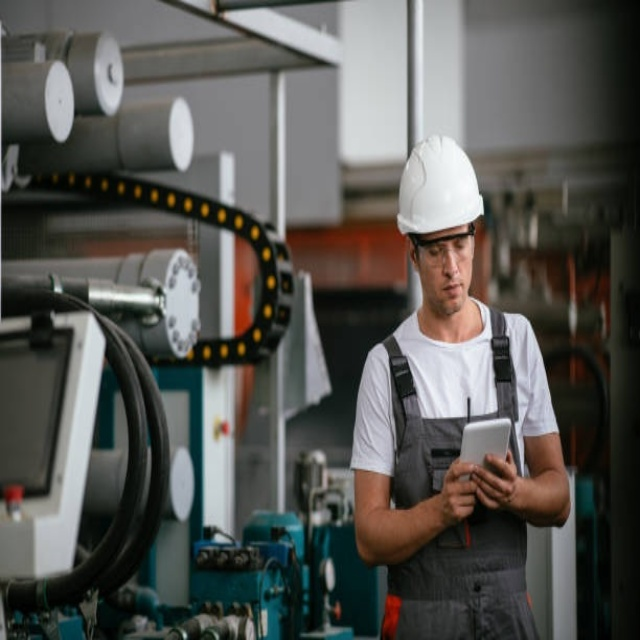Gafas: (411, 224, 475, 263)
Sin_guantes: (472, 447, 520, 512), (438, 454, 481, 526)
Sin_mascara: (439, 276, 467, 303)
